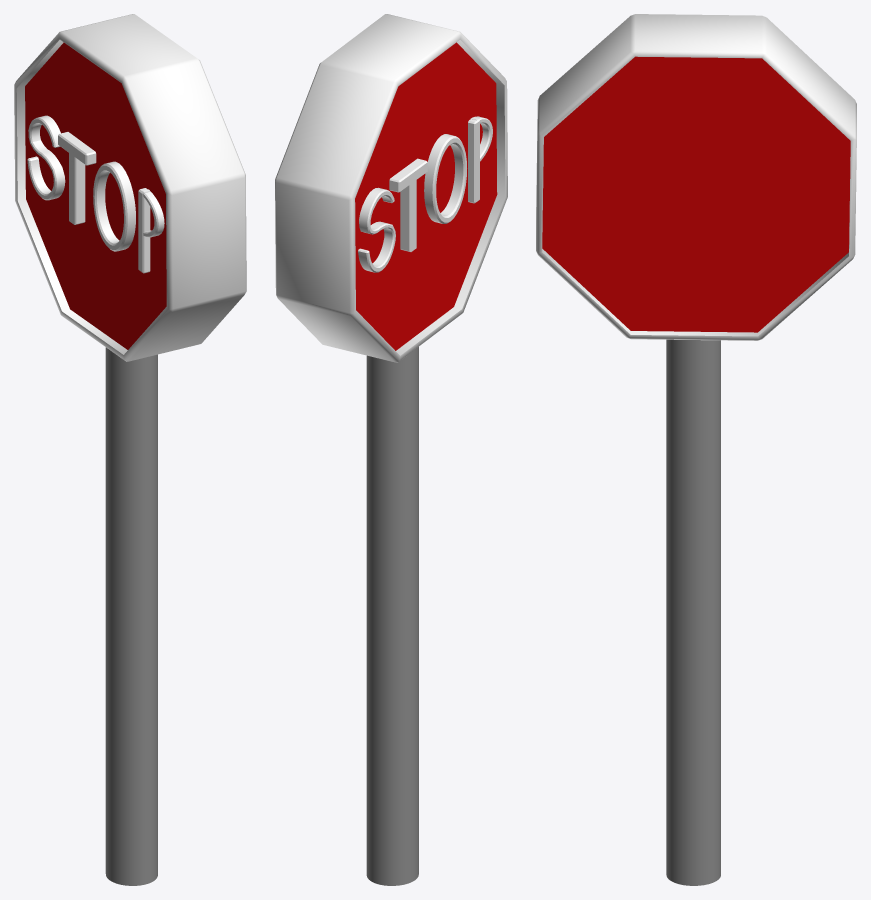
The model's file is TrafficSign3.fbx.
3 views of the same model, side by side, from view 1: azimuth 30°, elevation 25°; view 2: azimuth 150°, elevation 25°; view 3: azimuth 270°, elevation 25° (orthographic).
Parts seen in each view (by area): view 1: TrafficSignStop, TrafficSignPole3, TrafficSignP; view 2: TrafficSignStop, TrafficSignPole3, TrafficSignP; view 3: TrafficSignStop, TrafficSignPole3.
Part boxes in pixels (bbox=[...]): TrafficSignStop: bbox=[14, 14, 246, 361]; TrafficSignPole3: bbox=[105, 347, 157, 885]; TrafficSignP: bbox=[27, 115, 164, 273]; TrafficSignStop: bbox=[275, 14, 507, 362]; TrafficSignPole3: bbox=[366, 347, 418, 885]; TrafficSignP: bbox=[358, 116, 492, 272]; TrafficSignStop: bbox=[536, 14, 856, 340]; TrafficSignPole3: bbox=[666, 339, 720, 885].
Size of the model in its own units: 0.0944 by 0.9428 by 0.3253.
